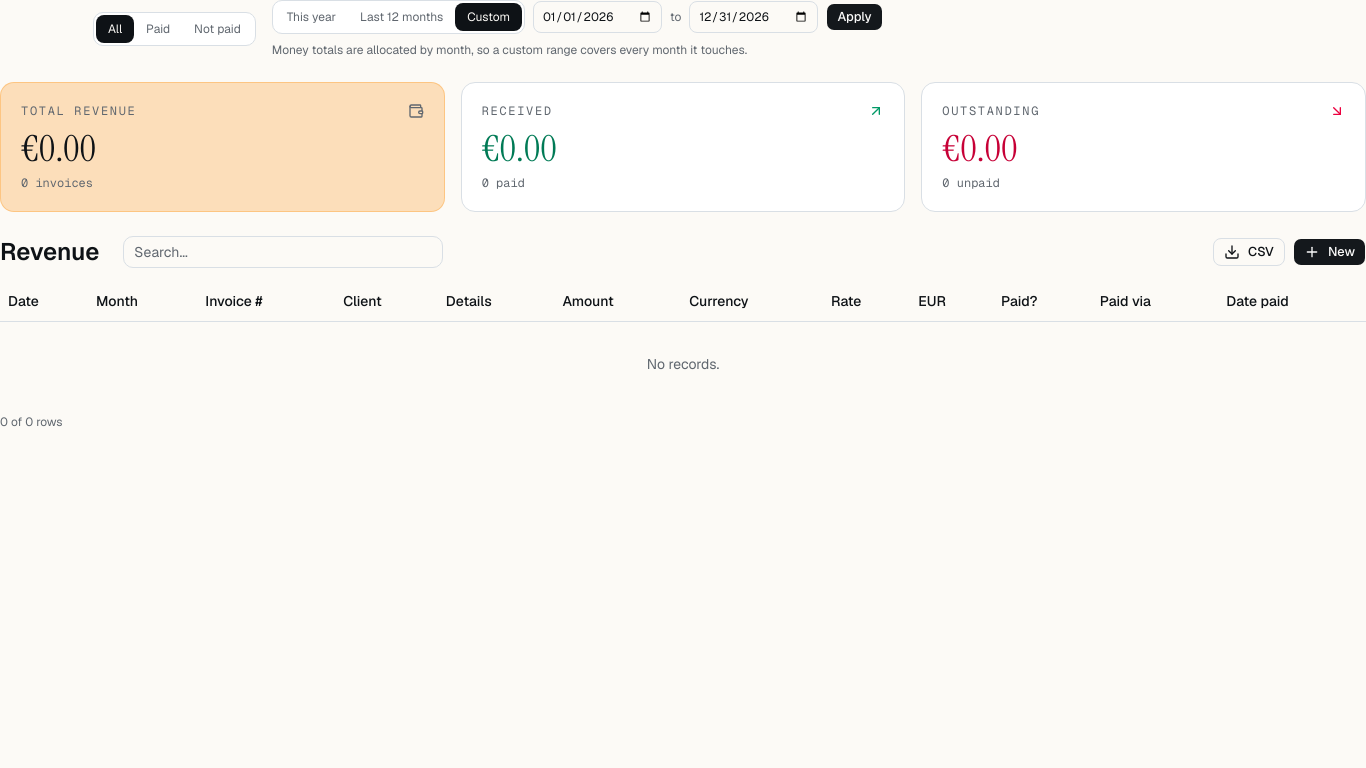
Creating a revenue record › does not open the drawer when the create fails
The width and height of the screenshot is (1366, 768).
Click the button "New" at [1329, 252], box [1293,238,1365,266]
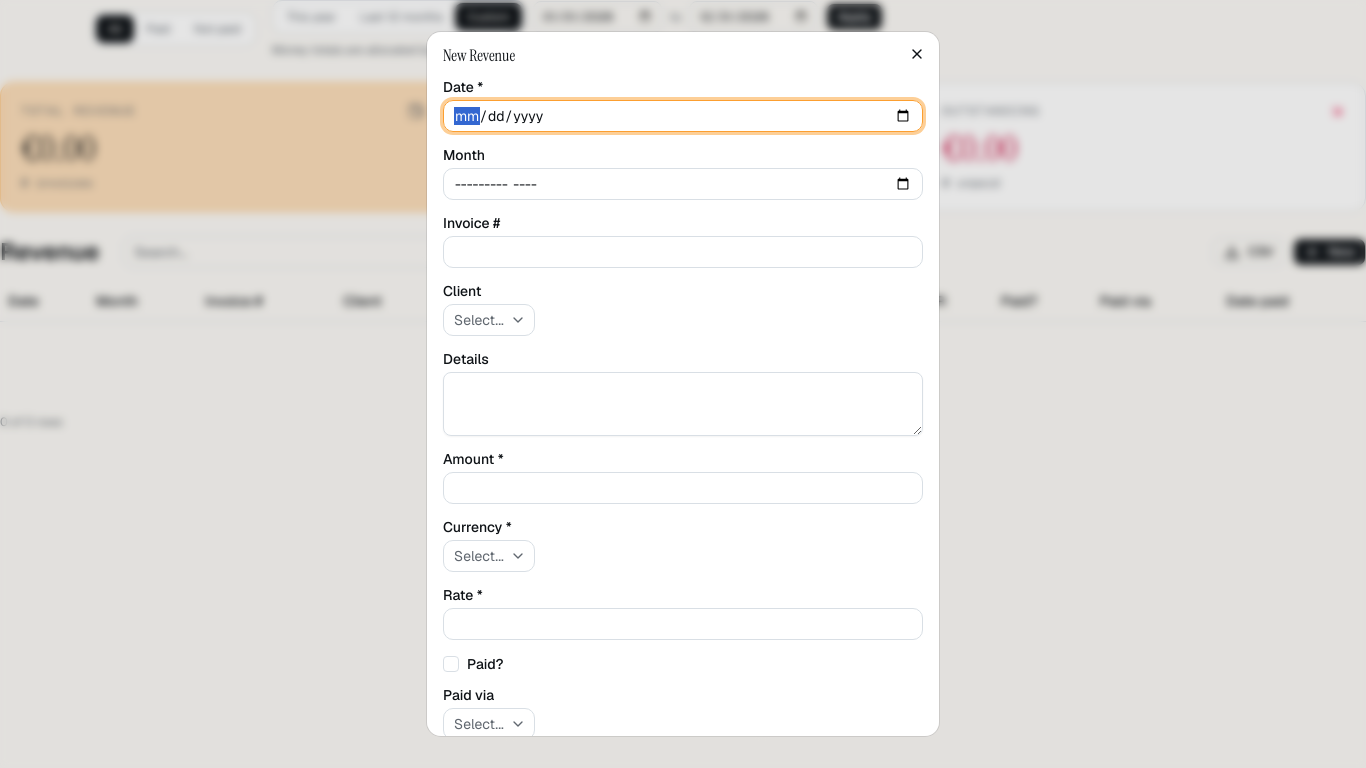
Type "2026-08-05" into the date field labelled "Date *" at [683, 116], box [443,100,923,132]
Type "1500" into the number field labelled "Amount *" at [683, 488], box [443,472,923,504]
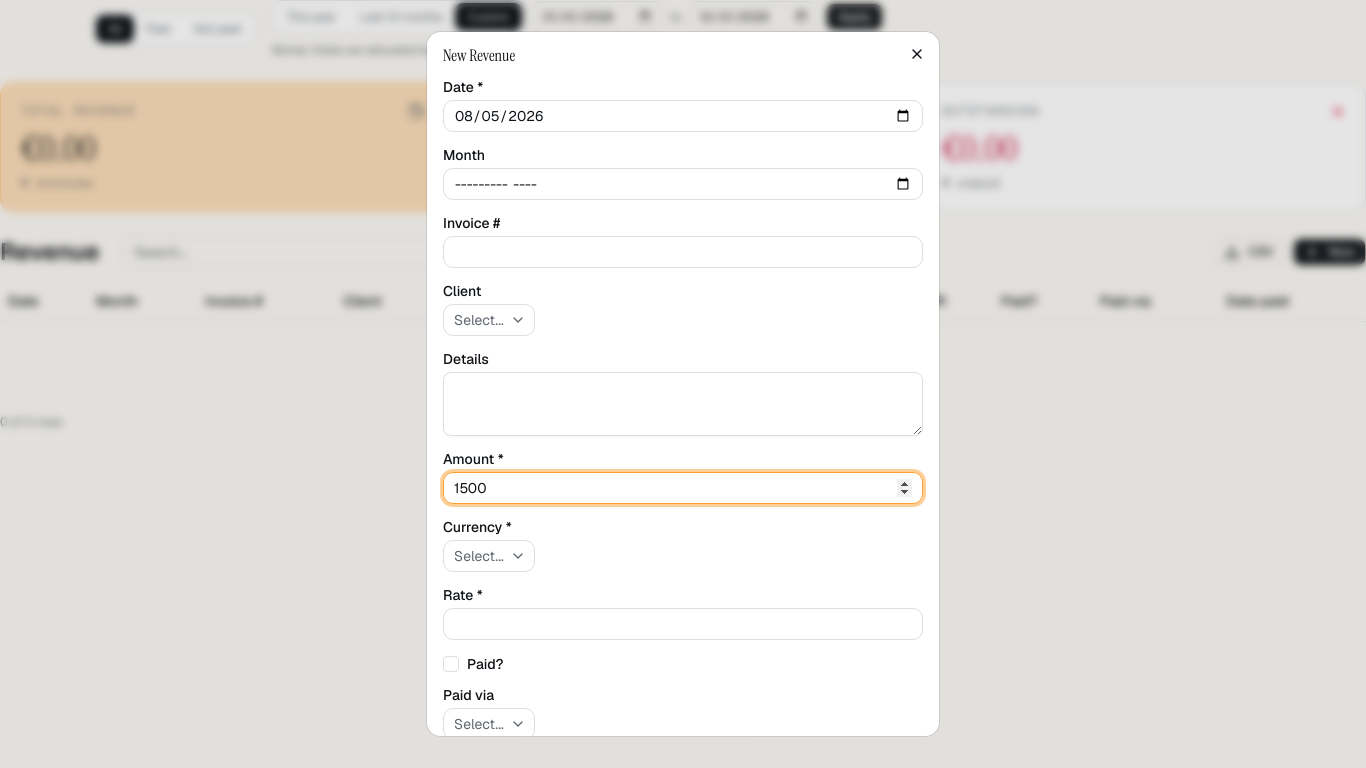
Type "1" into the number field labelled "Rate *" at [683, 624], box [443,608,923,640]
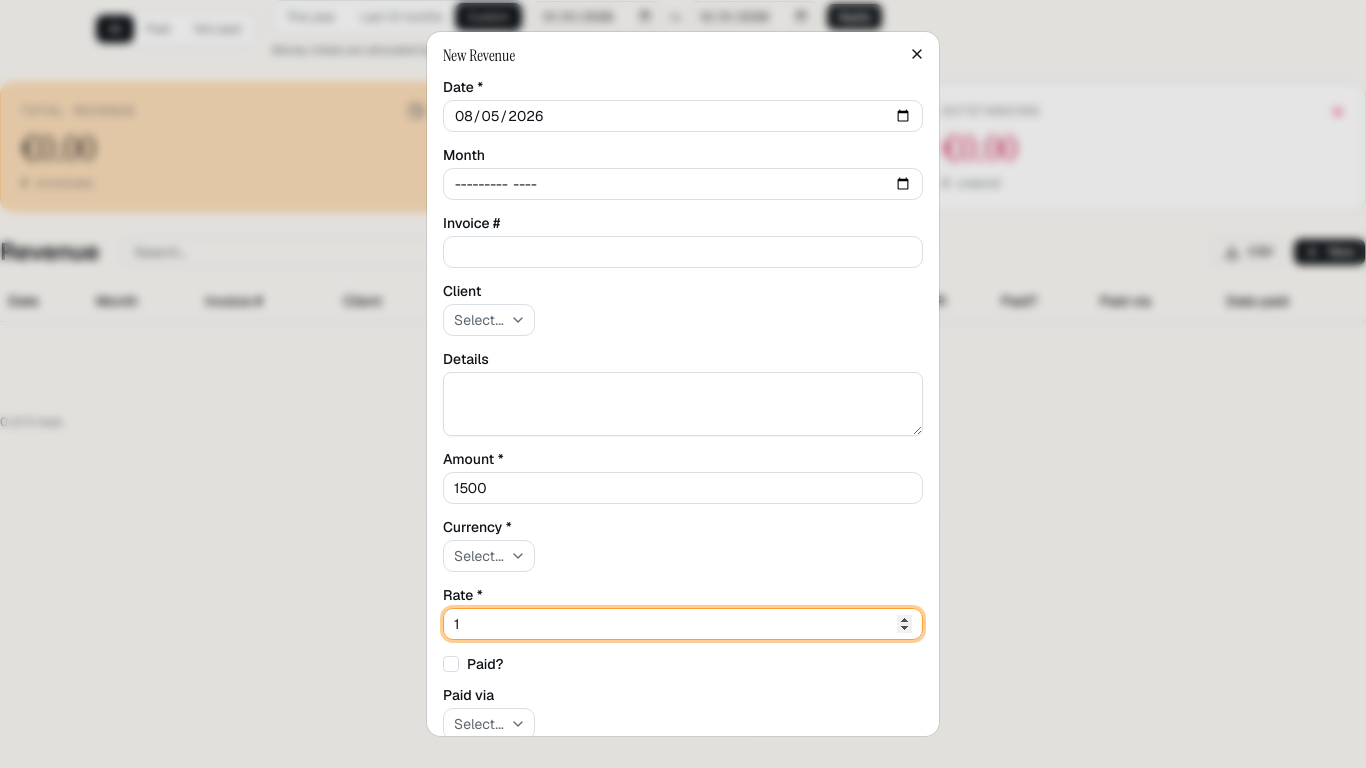
Click the dropdown named "currency" at [489, 556], box [443,540,535,572]
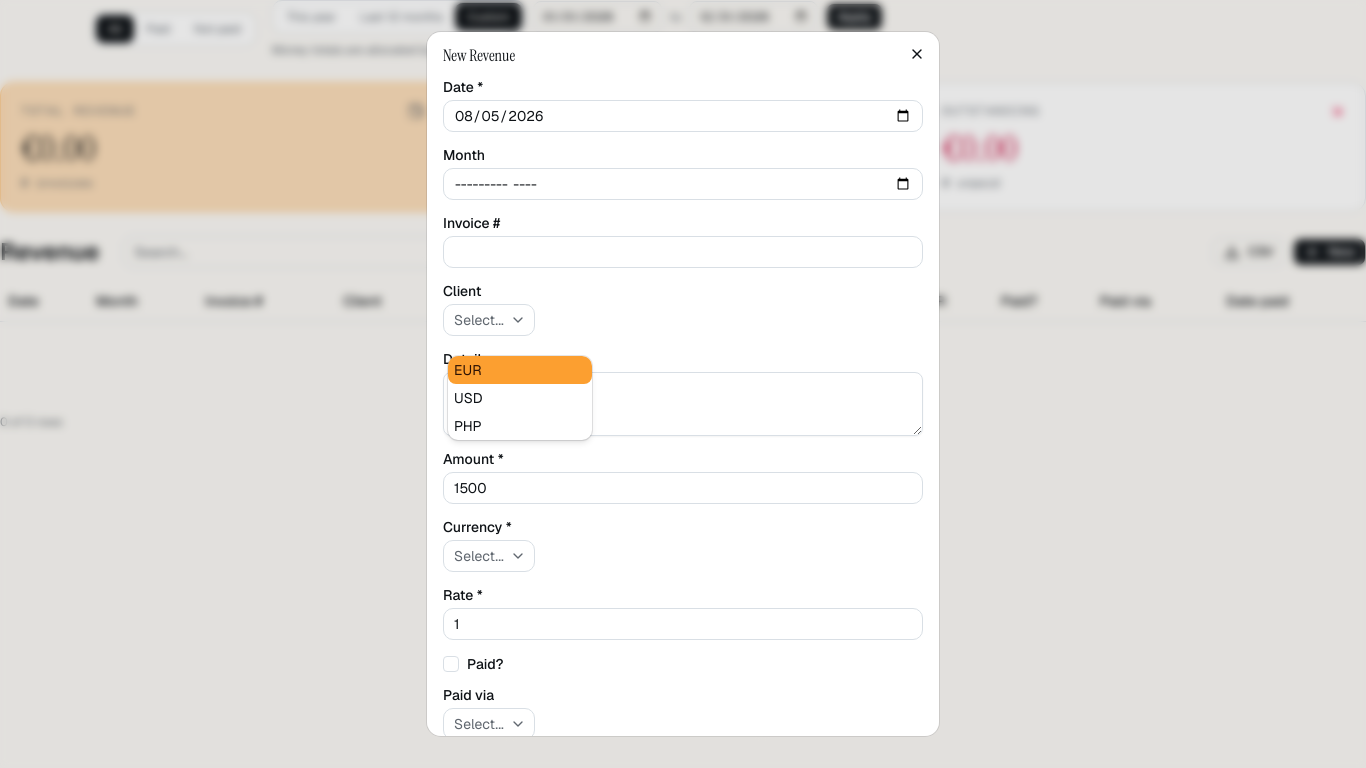
Click the option "EUR" at [520, 370], box [448,356,592,384]
(page scrolled)
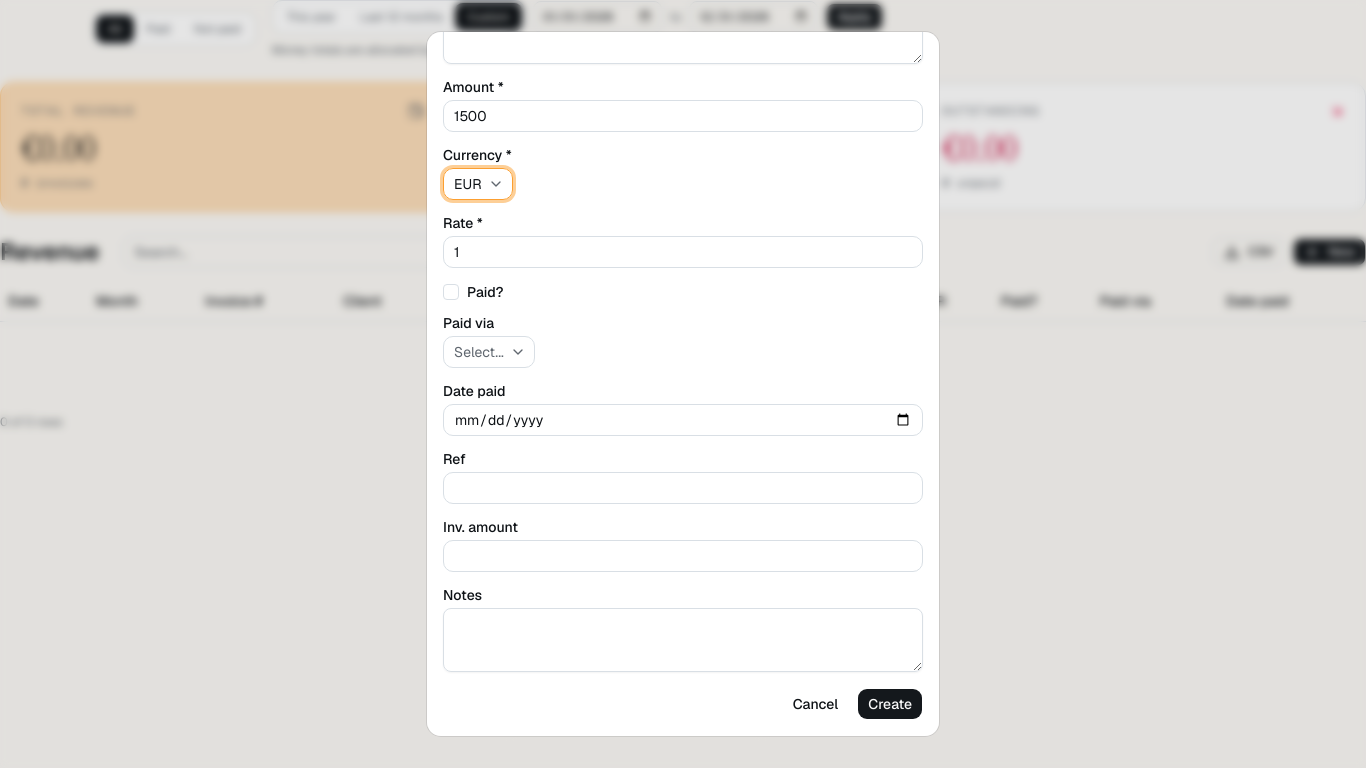
Click the button "Create" at [890, 704], box [857,688,923,720]
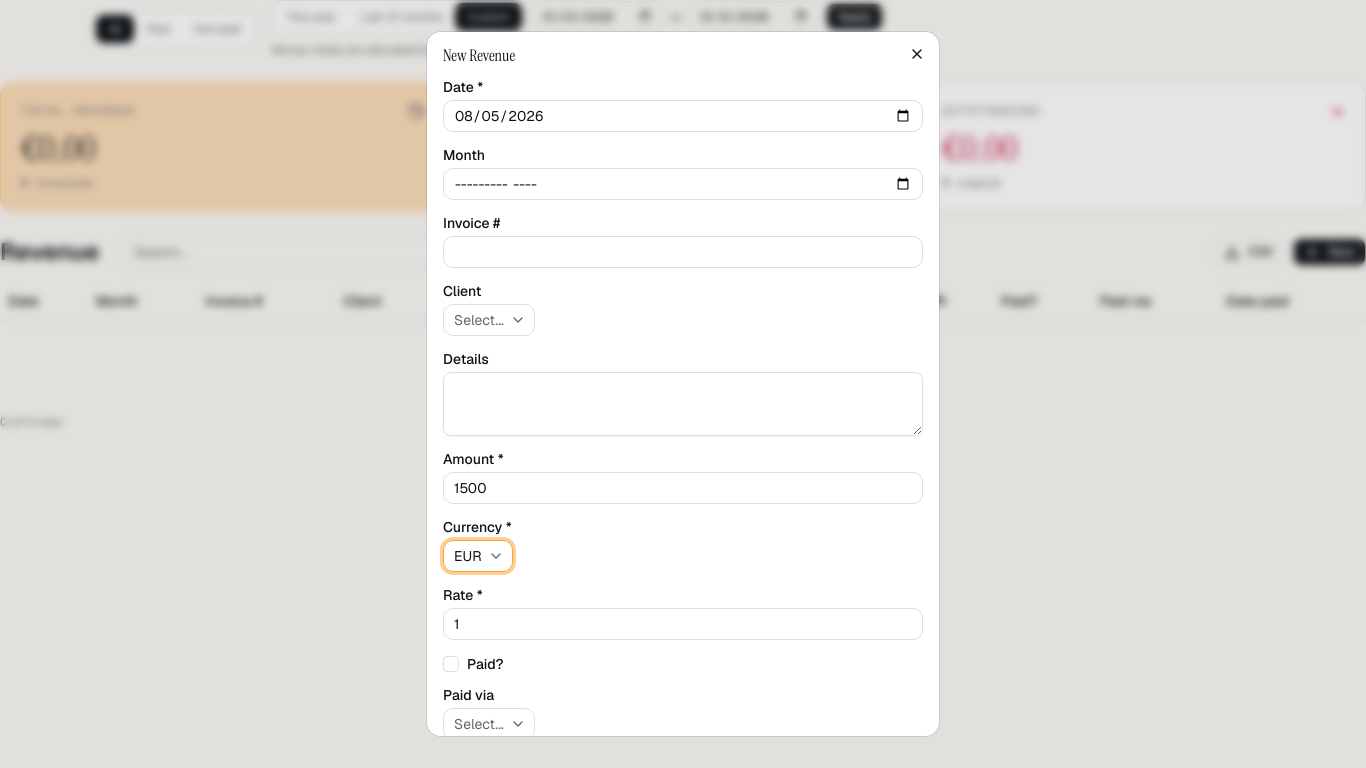
Expected: the heading "New Revenue" is shown, [443,45,515,66]
